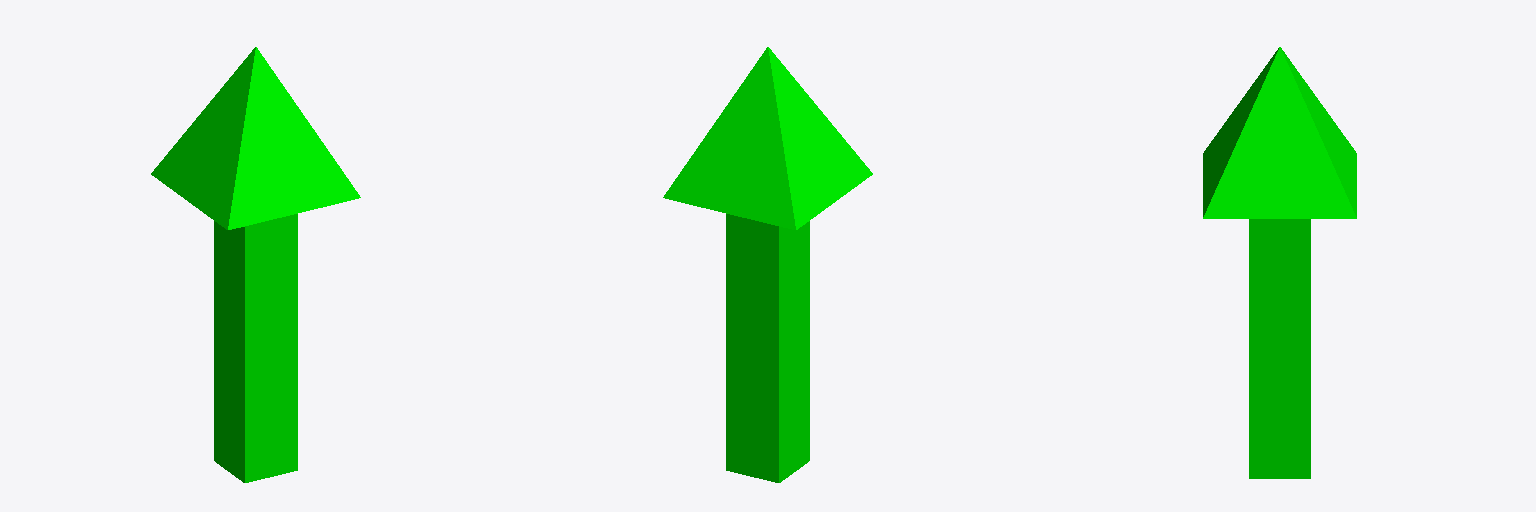
Rendered from transformY.obj.
3 renders of one model, left to right at view 1: azimuth 30°, elevation 25°; view 2: azimuth 150°, elevation 25°; view 3: azimuth 270°, elevation 25°, orthographic.
Visible parts, largest first — view 1: arrowY_Cube.001; view 2: arrowY_Cube.001; view 3: arrowY_Cube.001.
Part boxes in pixels (bbox=[...]): arrowY_Cube.001: bbox=[151, 47, 360, 482]; arrowY_Cube.001: bbox=[663, 47, 872, 482]; arrowY_Cube.001: bbox=[1203, 47, 1356, 478].
Size of the model in its own units: 1 by 3 by 1.